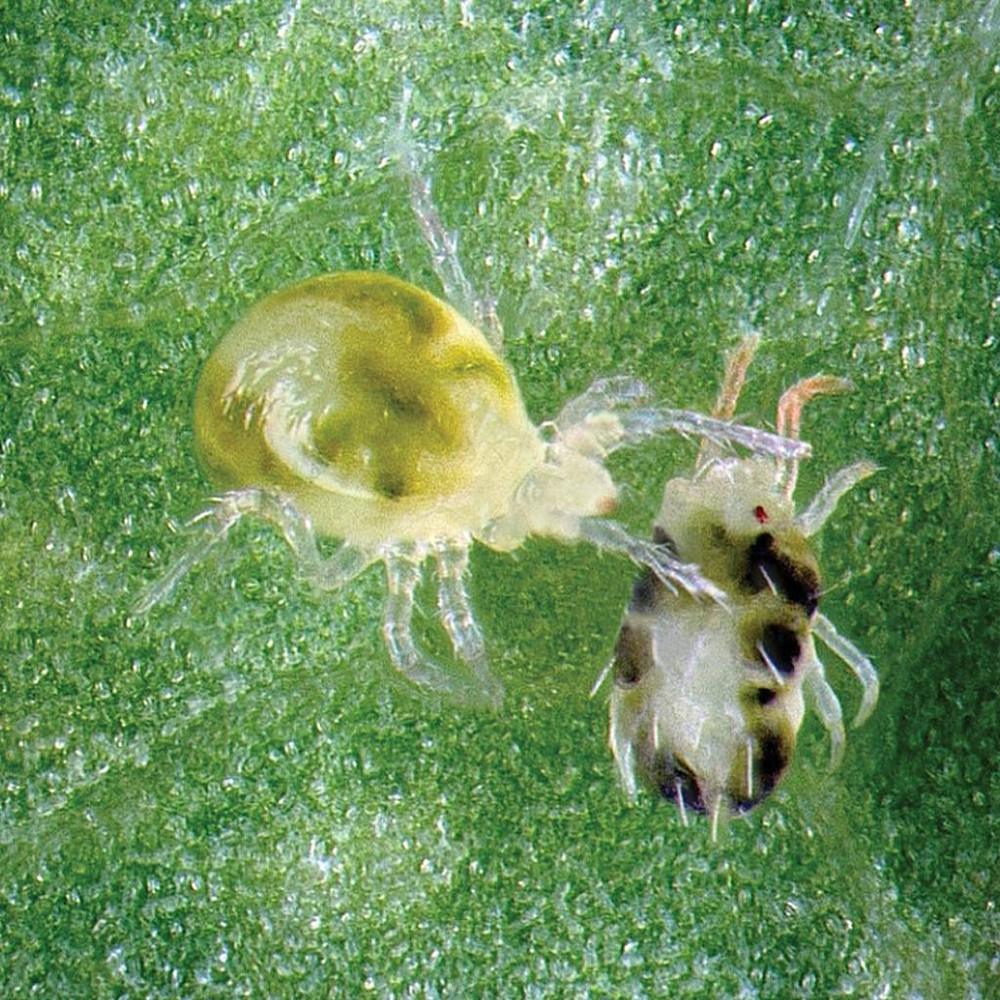Aracnido Rojo: (140, 189, 732, 716), (597, 298, 911, 847)
